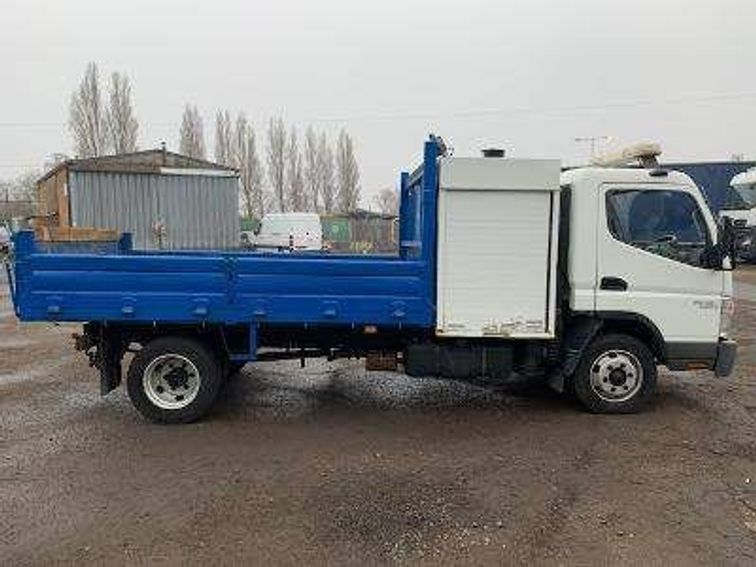Semi: (6, 143, 736, 421)
